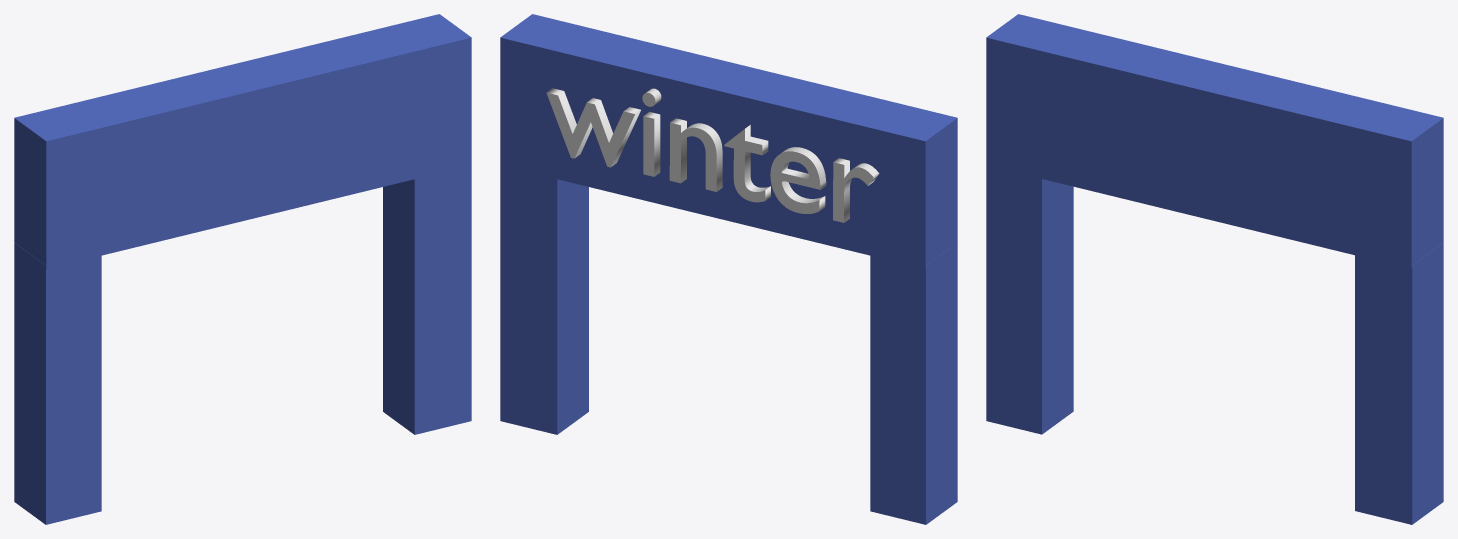
The model's file is ObstacleWinter.fbx.
3 views of the same model, side by side, from view 1: azimuth 30°, elevation 25°; view 2: azimuth 150°, elevation 25°; view 3: azimuth 330°, elevation 25° (orthographic).
Parts seen in each view (by area): view 1: Cube.002; view 2: Cube.002, winter; view 3: Cube.002.
Part boxes in pixels (x1,y1,x2,y2): Cube.002: [14, 14, 471, 524]; Cube.002: [500, 14, 957, 524]; winter: [546, 88, 879, 222]; Cube.002: [986, 14, 1443, 524].
Bounding box in the file's own units: 698 × 601 × 109.
